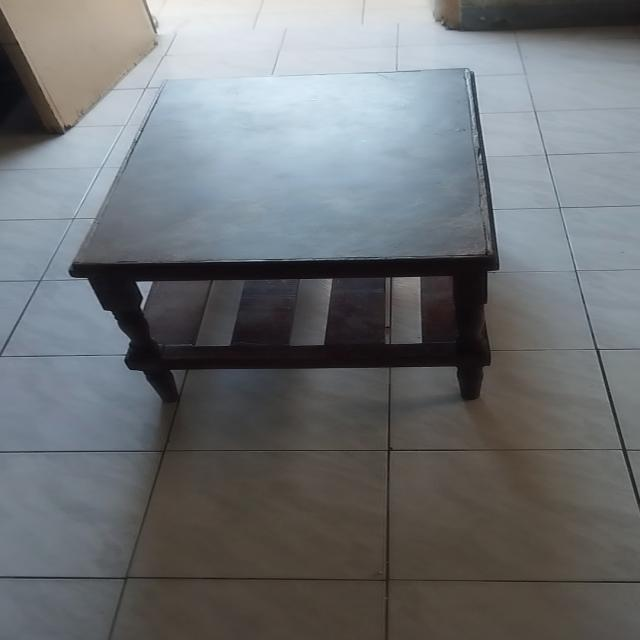table: (67, 59, 506, 413)
